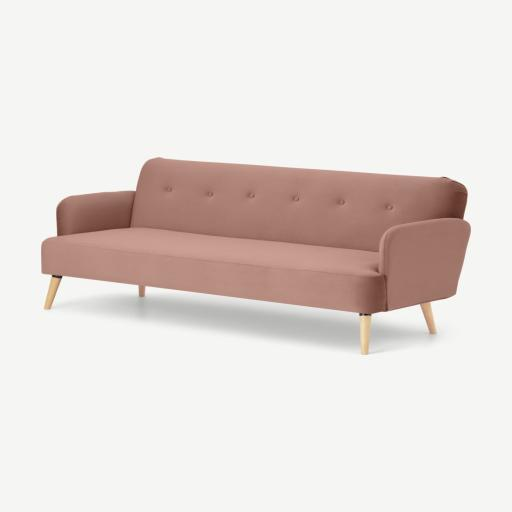back_cushion: (130, 158, 467, 250)
left_arm: (378, 218, 470, 333)
legs: (44, 275, 61, 309), (360, 314, 371, 355), (421, 303, 435, 334), (138, 285, 145, 297)
one-seater: (41, 158, 470, 354)
right_arm: (57, 191, 135, 235)
seat_cushion: (42, 227, 384, 312)
